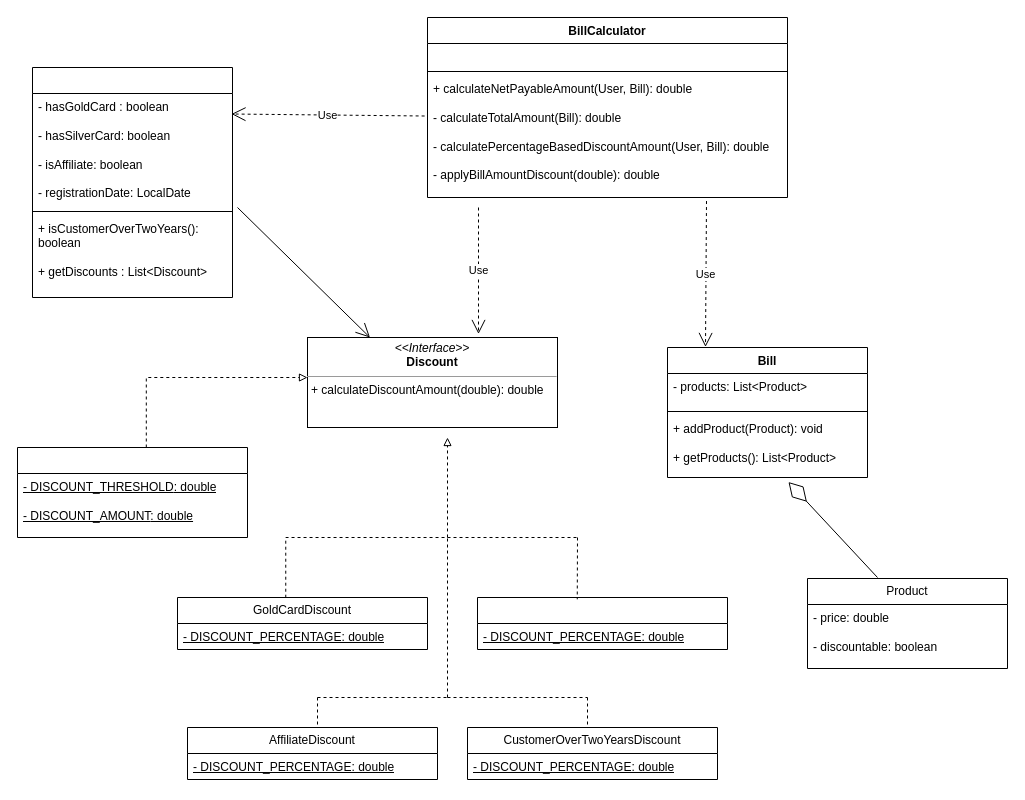
Some shapes in this 1025 by 800 pixel diagram are drawn without their labels. The shapes that lost their labels are listed below. From the top down, each one's box as (x1, y1, x2, y2) in pixels, then its label:
(32, 66, 232, 298): User
(16, 446, 248, 538): BillAmountDiscount
(476, 596, 728, 650): SilverCardDiscount
